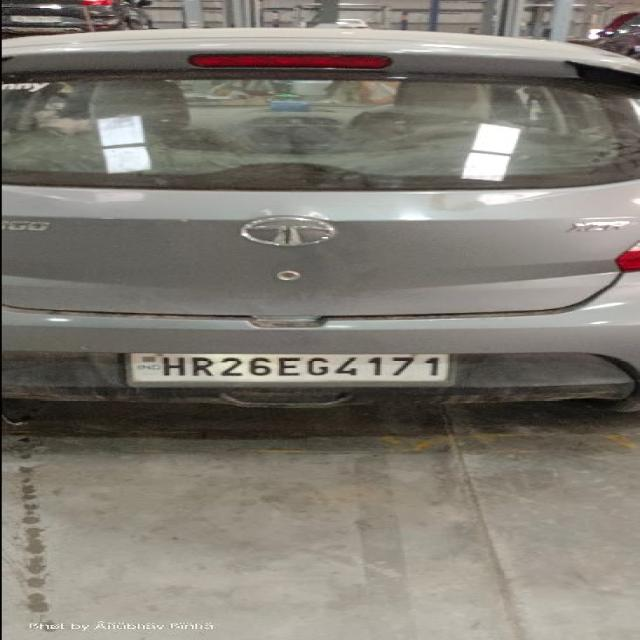license_plate: (122, 352, 457, 388)
